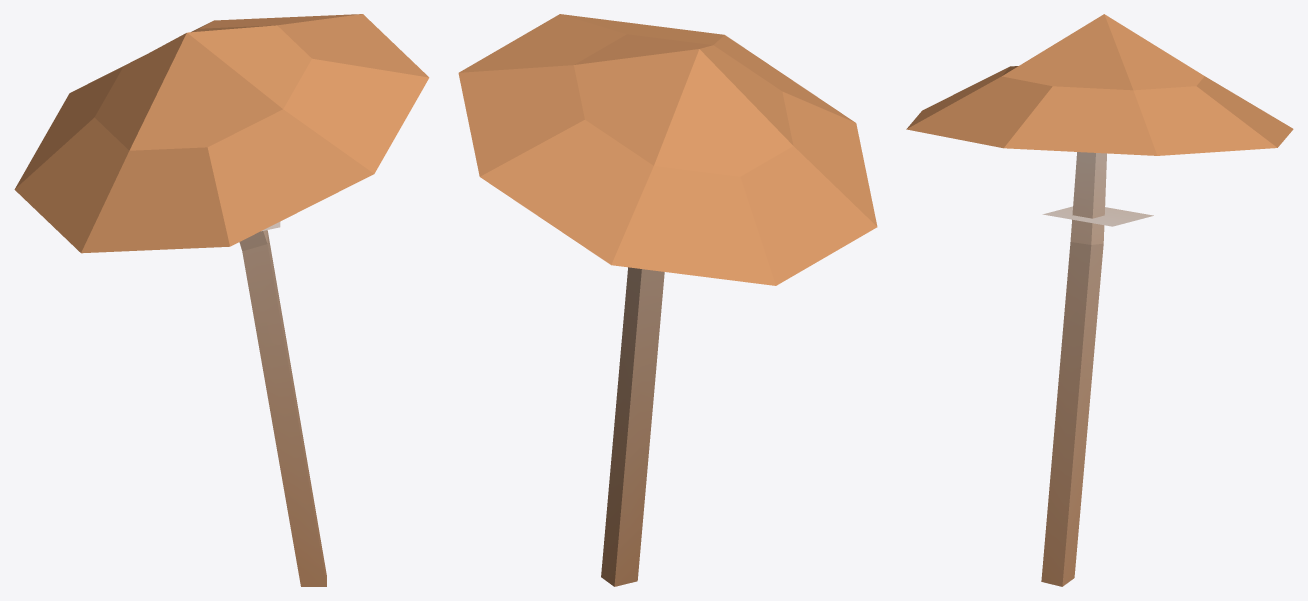
File: Mushroom_i_04.fbx
3 renders of one model, left to right at view 1: azimuth 30°, elevation 25°; view 2: azimuth 150°, elevation 25°; view 3: azimuth 270°, elevation 25°, orthographic. The views are drawn at different scales.
Parts seen in each view (by area): view 1: Mushroom_i_04; view 2: Mushroom_i_04; view 3: Mushroom_i_04.
Boxes of the visible parts, left/top/right/bottom form: Mushroom_i_04: left=14, top=14, right=429, bottom=586; Mushroom_i_04: left=458, top=14, right=877, bottom=586; Mushroom_i_04: left=906, top=14, right=1293, bottom=586.
Bounding box in the file's own units: 0.1574 × 0.2433 × 0.1646.
